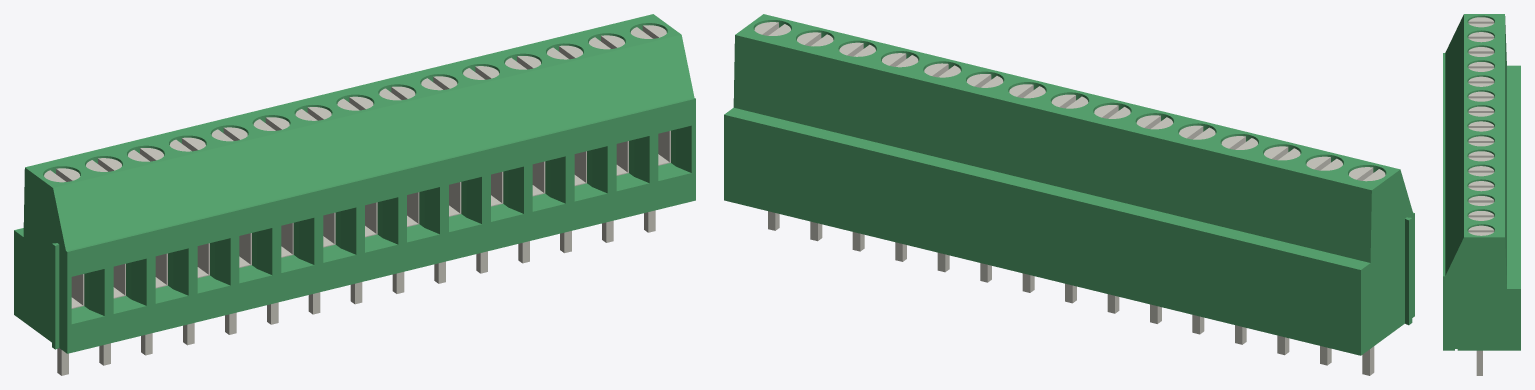
File: kc-terminalblock_phoenix_mkds-3-15-5.08_1x15_p5.08mm_horizontal.glb
The picture shows the model from 3 angles, left to right: view 1: azimuth 30°, elevation 25°; view 2: azimuth 150°, elevation 25°; view 3: azimuth 270°, elevation 25°; orthographic projection. The views are drawn at different scales.
Visible parts, largest first — view 1: 0.08333333333333333_0.4166666666666667_0.16666666666666666_0, 0.6666666666666666_0.6666666666666666_0.5833333333333334_0.8; view 2: 0.08333333333333333_0.4166666666666667_0.16666666666666666_0, 0.6666666666666666_0.6666666666666666_0.5833333333333334_0.8; view 3: 0.08333333333333333_0.4166666666666667_0.16666666666666666_0, 0.6666666666666666_0.6666666666666666_0.5833333333333334_0.8.
Part boxes in pixels (bbox=[...]): 0.08333333333333333_0.4166666666666667_0.16666666666666666_0: bbox=[14, 14, 695, 353]; 0.6666666666666666_0.6666666666666666_0.5833333333333334_0.8: bbox=[44, 25, 670, 375]; 0.08333333333333333_0.4166666666666667_0.16666666666666666_0: bbox=[724, 14, 1414, 355]; 0.6666666666666666_0.6666666666666666_0.5833333333333334_0.8: bbox=[754, 22, 1385, 375]; 0.08333333333333333_0.4166666666666667_0.16666666666666666_0: bbox=[1443, 14, 1520, 350]; 0.6666666666666666_0.6666666666666666_0.5833333333333334_0.8: bbox=[1468, 17, 1494, 375].
Bounding box in the file's own units: 7.68 × 2.3 × 1.12.
